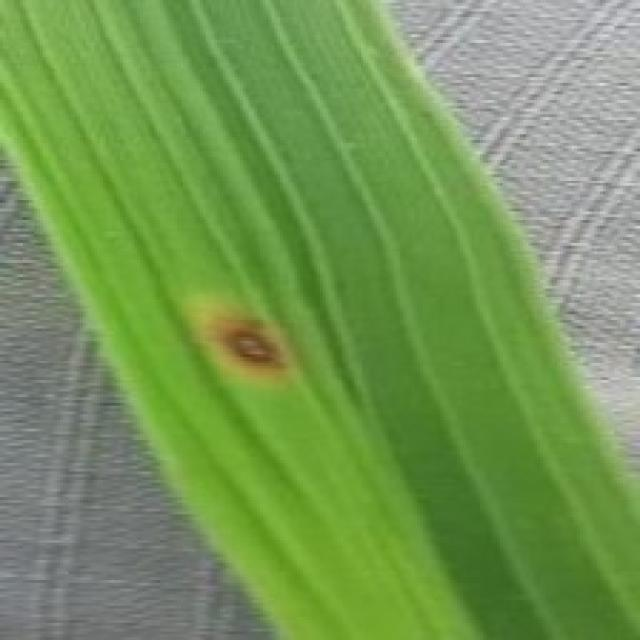Rice___Brown_Spot: (0, 0, 637, 637)
